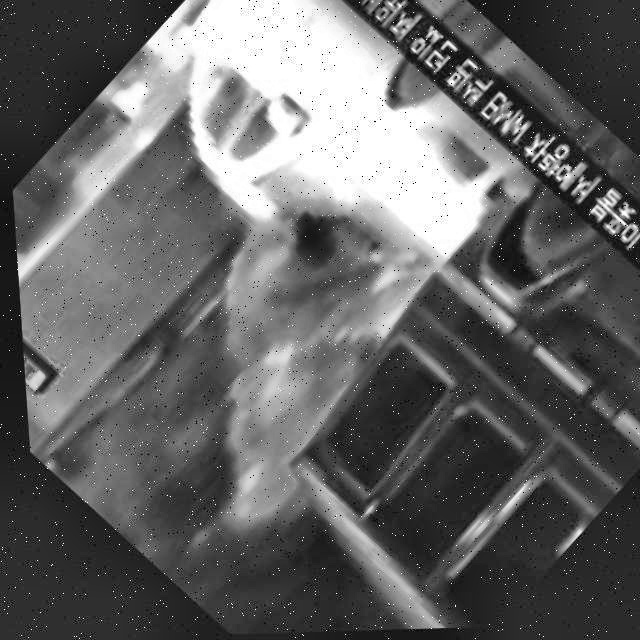Fire: (118, 182, 464, 519)
